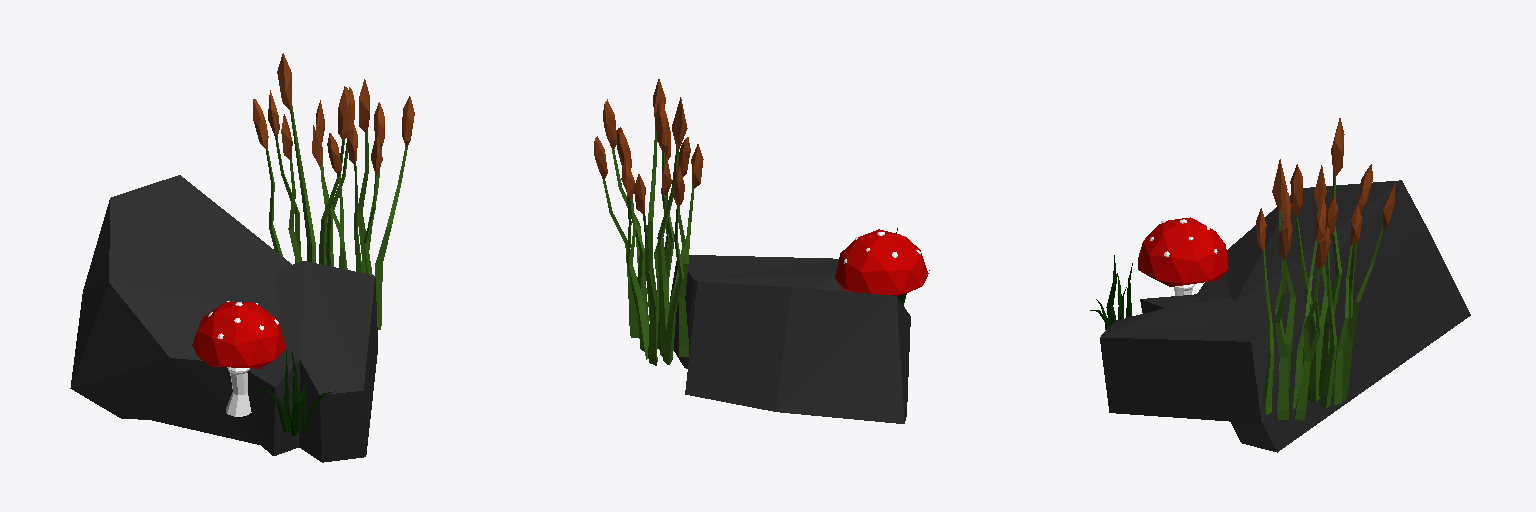
Rendered from rock1.obj.
3 renders of one model, left to right at view 1: azimuth 30°, elevation 25°; view 2: azimuth 150°, elevation 25°; view 3: azimuth 270°, elevation 25°, orthographic.
Parts seen in each view (by area): view 1: Mushrooms_grass3_Cylinder.071; view 2: Mushrooms_grass3_Cylinder.071; view 3: Mushrooms_grass3_Cylinder.071.
Boxes of the visible parts, box(x1,y1,x2,y2) form: Mushrooms_grass3_Cylinder.071: box(70, 53, 414, 462); Mushrooms_grass3_Cylinder.071: box(594, 79, 929, 423); Mushrooms_grass3_Cylinder.071: box(1090, 118, 1470, 452).
Bounding box in the file's own units: 2.22 × 2.21 × 2.28.